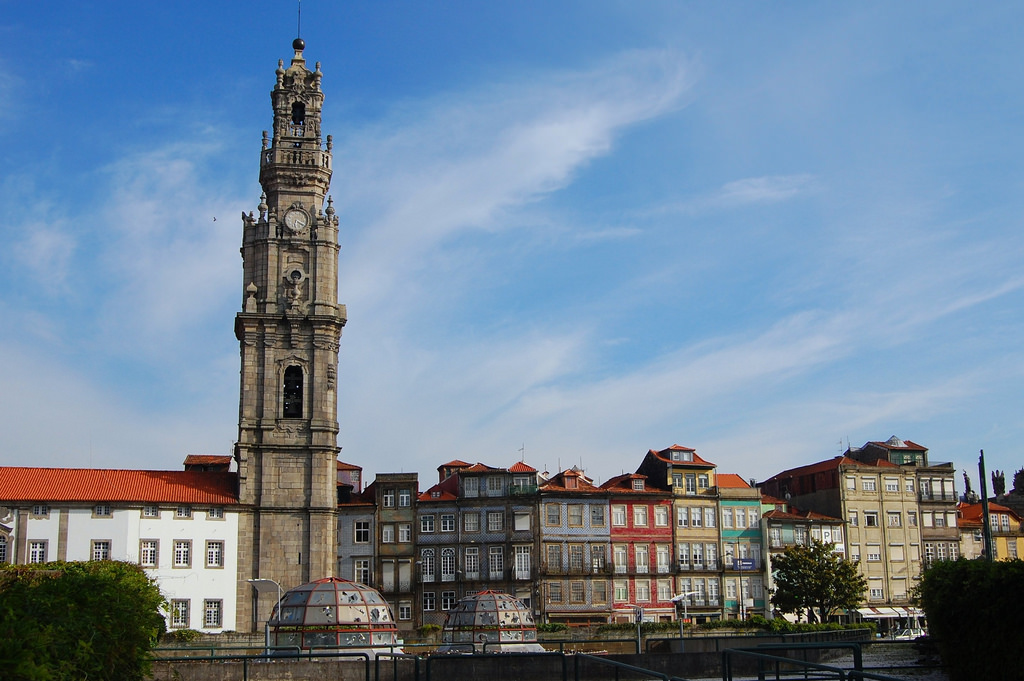clerigos: (231, 0, 350, 635)
